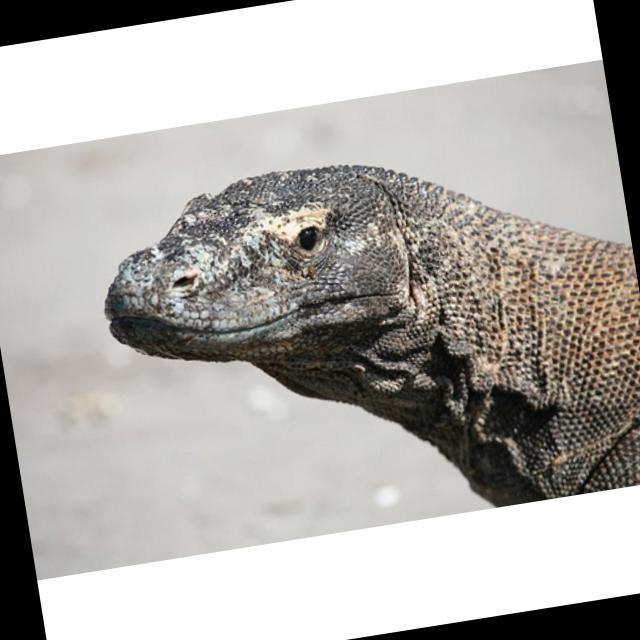KomodoDragon: (88, 118, 640, 560)
